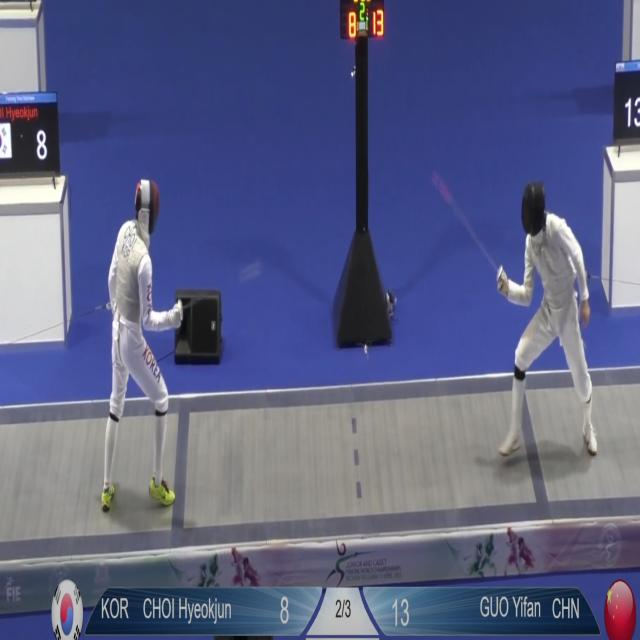fencer: (495, 168, 604, 466), (90, 170, 178, 515)
overlayLeft: (85, 584, 270, 640)
overlayRight: (429, 587, 600, 640)
scoreLeft: (271, 585, 327, 637)
scoreRight: (356, 586, 426, 636)
